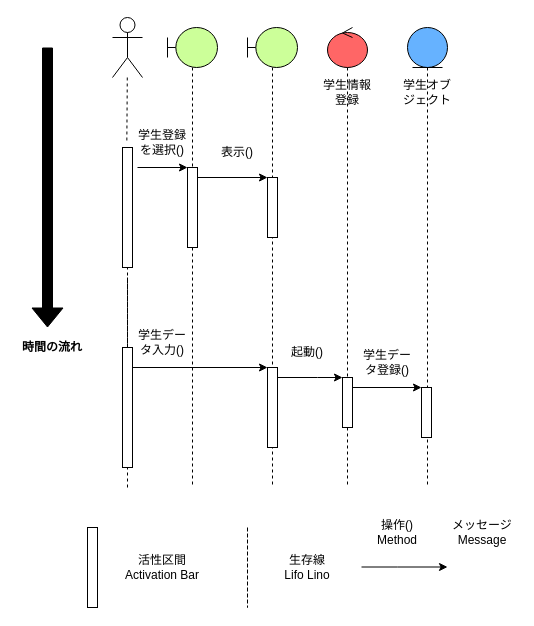
Some shapes in this 534 by 626 pixel diagram are drawn without their labels. Each missing label, with the centre of its shape:
メニュー画面: the point at 192,257
学生登録画面: the point at 272,257
